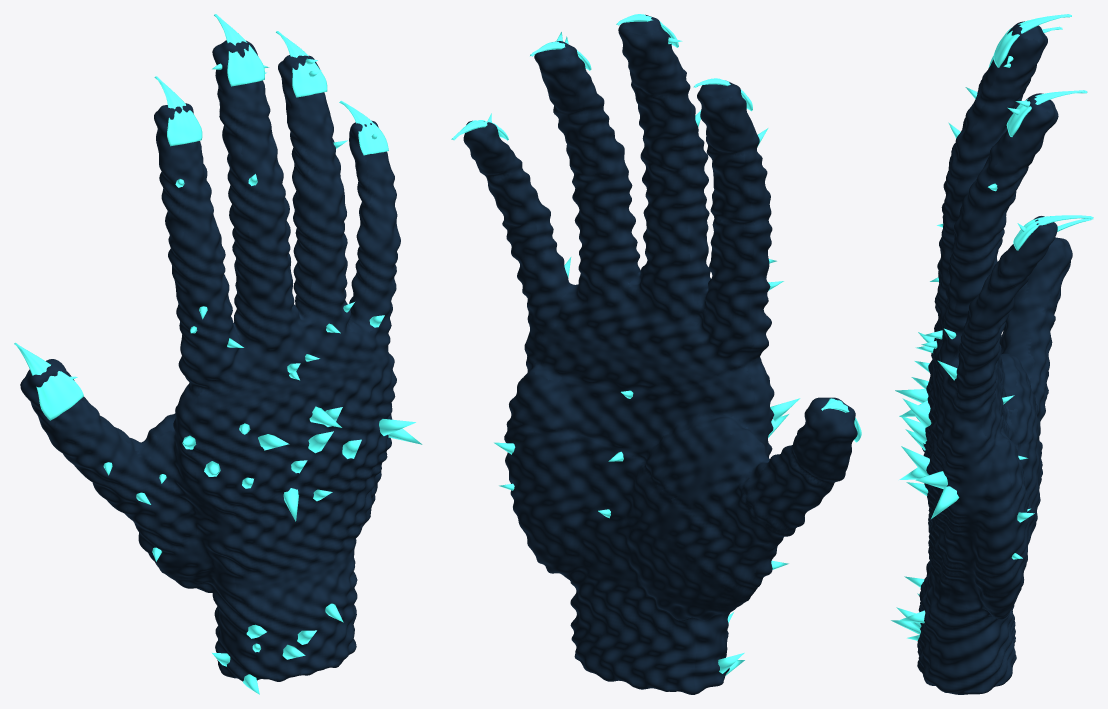
File: family-05.glb
3 renders of one model, left to right at view 1: azimuth 30°, elevation 25°; view 2: azimuth 150°, elevation 25°; view 3: azimuth 270°, elevation 25°, orthographic. The views are drawn at different scales.
Parts seen in each view (by area): view 1: fingers__fingers_sculpt, back_of_hand__back_of_hand_sculpt, wrist__wrist_sculpt, fingertips__fingertips_sculpt, back_of_hand, palm__palm_sculpt, nails__thumb_claw, nails__middle_claw, nails__index_claw, fingers, wrist, nails__ring_claw (+1 smaller); view 2: fingers__fingers_sculpt, palm__palm_sculpt, wrist__wrist_sculpt, fingertips__fingertips_sculpt; view 3: fingers__fingers_sculpt, palm__palm_sculpt, wrist__wrist_sculpt, fingertips__fingertips_sculpt, back_of_hand__back_of_hand_sculpt, back_of_hand, fingers, nails__middle_claw, nails__ring_claw, nails__pinky_claw, wrist.
Boxes of the visible parts, x1,y1,x2,y2 form: fingers__fingers_sculpt: [49, 97, 400, 568]; back_of_hand__back_of_hand_sculpt: [177, 351, 396, 584]; wrist__wrist_sculpt: [168, 536, 357, 681]; fingertips__fingertips_sculpt: [20, 40, 390, 437]; back_of_hand: [182, 406, 422, 521]; palm__palm_sculpt: [159, 392, 381, 578]; nails__thumb_claw: [14, 342, 83, 420]; nails__middle_claw: [214, 14, 264, 86]; nails__index_claw: [154, 76, 202, 146]; fingers: [103, 140, 384, 561]; wrist: [212, 603, 343, 694]; nails__ring_claw: [276, 31, 327, 97]; fingers__fingers_sculpt: [477, 66, 847, 597]; palm__palm_sculpt: [504, 325, 769, 607]; wrist__wrist_sculpt: [535, 555, 741, 694]; fingertips__fingertips_sculpt: [463, 14, 857, 475]; fingers__fingers_sculpt: [933, 70, 1056, 485]; palm__palm_sculpt: [969, 344, 1040, 610]; wrist__wrist_sculpt: [917, 561, 1016, 694]; fingertips__fingertips_sculpt: [987, 21, 1072, 306]; back_of_hand__back_of_hand_sculpt: [922, 353, 970, 599]; back_of_hand: [895, 361, 959, 518]; fingers: [915, 87, 997, 380]; nails__middle_claw: [993, 14, 1071, 67]; nails__ring_claw: [1006, 90, 1087, 136]; nails__pinky_claw: [1013, 215, 1093, 250]; wrist: [891, 576, 925, 640].
Size of the model in its own units: 0.1316 by 0.2214 by 0.0632.
Materials: 2 (1 with a texture image).
